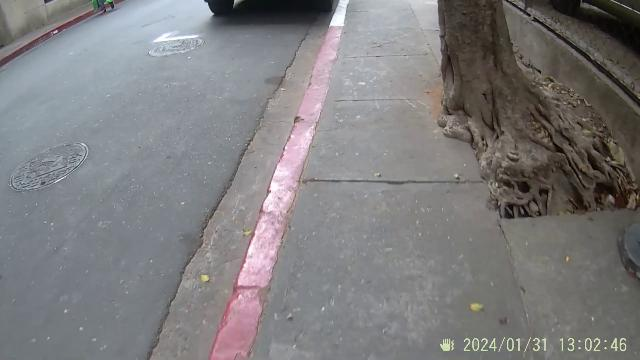car: (193, 0, 341, 32)
tree: (431, 1, 605, 220)
